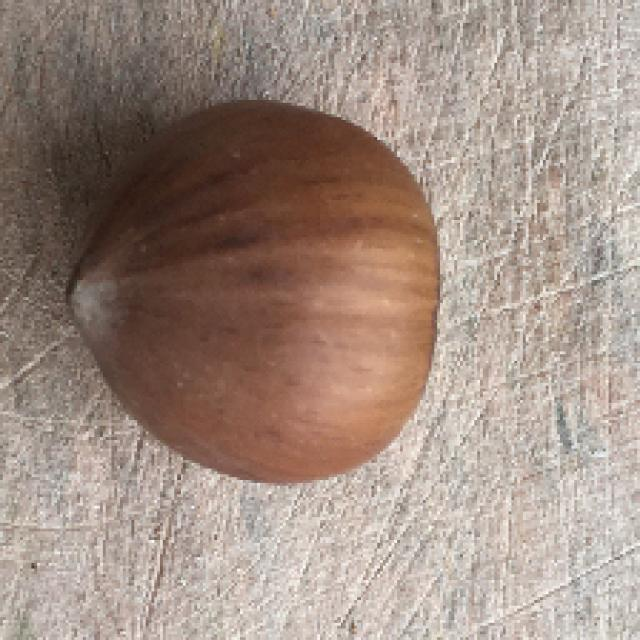qualityHazelnut: (68, 104, 442, 482)
